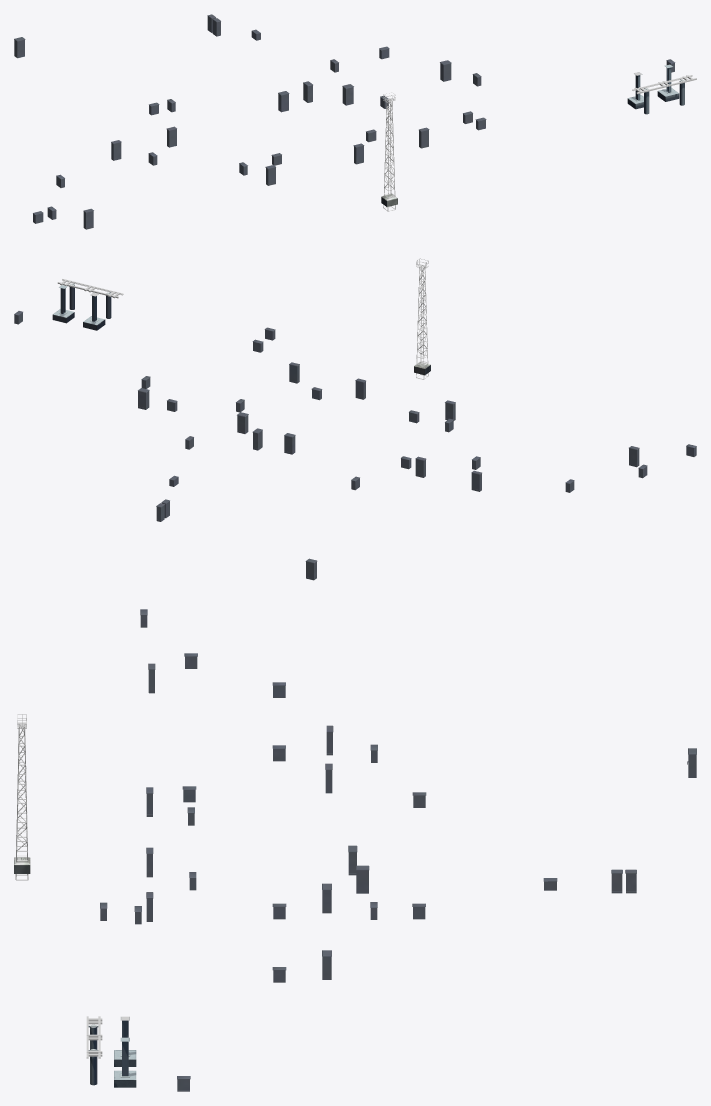
The picture shows the model from 3 angles, top to bottom: view 1: azimuth 30°, elevation 25°; view 2: azimuth 150°, elevation 25°; view 3: azimuth 270°, elevation 25°; orthographic projection. The views are drawn at different scales.
Visible parts, largest first — view 1: 8-机端箱.1, 8-a1, 8-材质.17, 8-材质.59; view 2: 8-机端箱.1, 8-a1, 8-材质.17; view 3: 8-机端箱.1, 8-a1, 8-材质.17.
Part boxes in pixels (x1,y1,x2,y2): 8-机端箱.1: (14,14,675,229); 8-a1: (627,64,684,114); 8-材质.17: (383,92,395,211); 8-材质.59: (632,75,696,94); 8-机端箱.1: (14,311,696,580); 8-a1: (52,283,111,330); 8-材质.17: (416,258,428,379); 8-机端箱.1: (100,609,696,1091); 8-a1: (88,1016,136,1087); 8-材质.17: (15,714,28,880).
Bounding box in the file's own units: 44.11 × 7.39 × 28.52.
5 materials, 3 textured.
